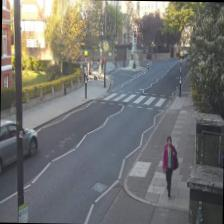person: (161, 135, 177, 198)
